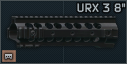AR-15 URX 3 8 inch handguard: (0, 0, 127, 64)
